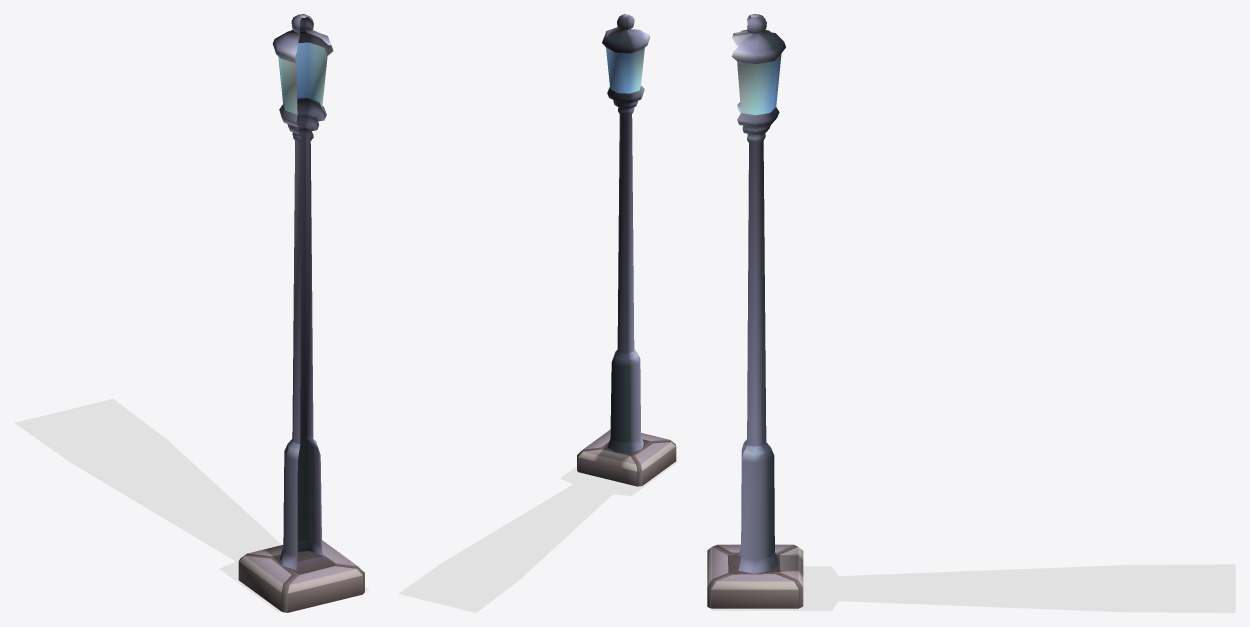
File: City_SideBump_StreetLamp 1.fbx
The picture shows the model from 3 angles, left to right: view 1: azimuth 30°, elevation 25°; view 2: azimuth 150°, elevation 25°; view 3: azimuth 270°, elevation 25°; orthographic projection. The views are drawn at different scales.
Visible parts, largest first — view 1: city_sideBump_streetLamp, streetLampShadow; view 2: city_sideBump_streetLamp, streetLampShadow; view 3: city_sideBump_streetLamp, streetLampShadow.
Part boxes in pixels (x1,y1,x2,y2): city_sideBump_streetLamp: (238, 14, 364, 612); streetLampShadow: (14, 399, 369, 612); city_sideBump_streetLamp: (577, 14, 676, 486); streetLampShadow: (398, 461, 678, 612); city_sideBump_streetLamp: (707, 14, 803, 608); streetLampShadow: (712, 564, 1235, 612).
Size of the model in its own units: 76.7 by 422 by 353.
